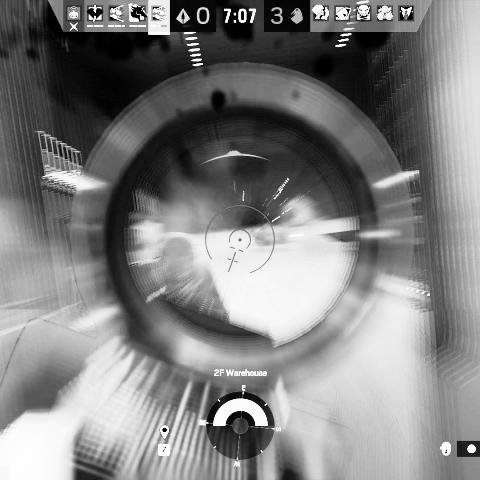Character: (128, 231, 232, 325)
Head: (160, 233, 197, 281)
